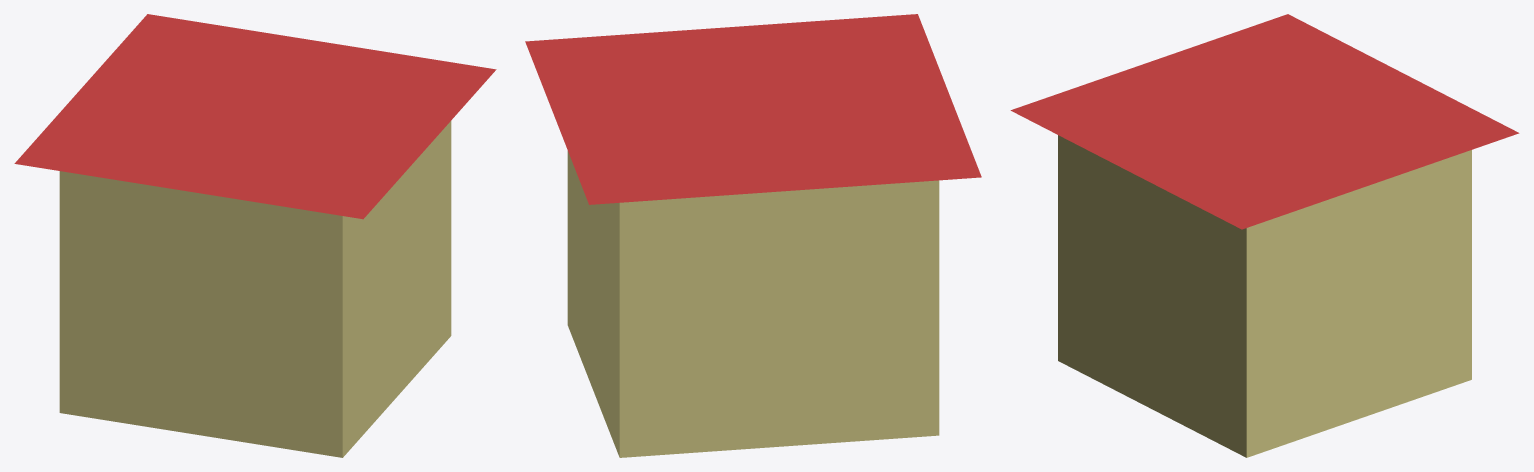
The picture shows the model from 3 angles, left to right: view 1: azimuth 30°, elevation 25°; view 2: azimuth 150°, elevation 25°; view 3: azimuth 270°, elevation 25°; orthographic projection. The views are drawn at different scales.
Bounding box in the file's own units: 11.24 × 11.23 × 6.04.
